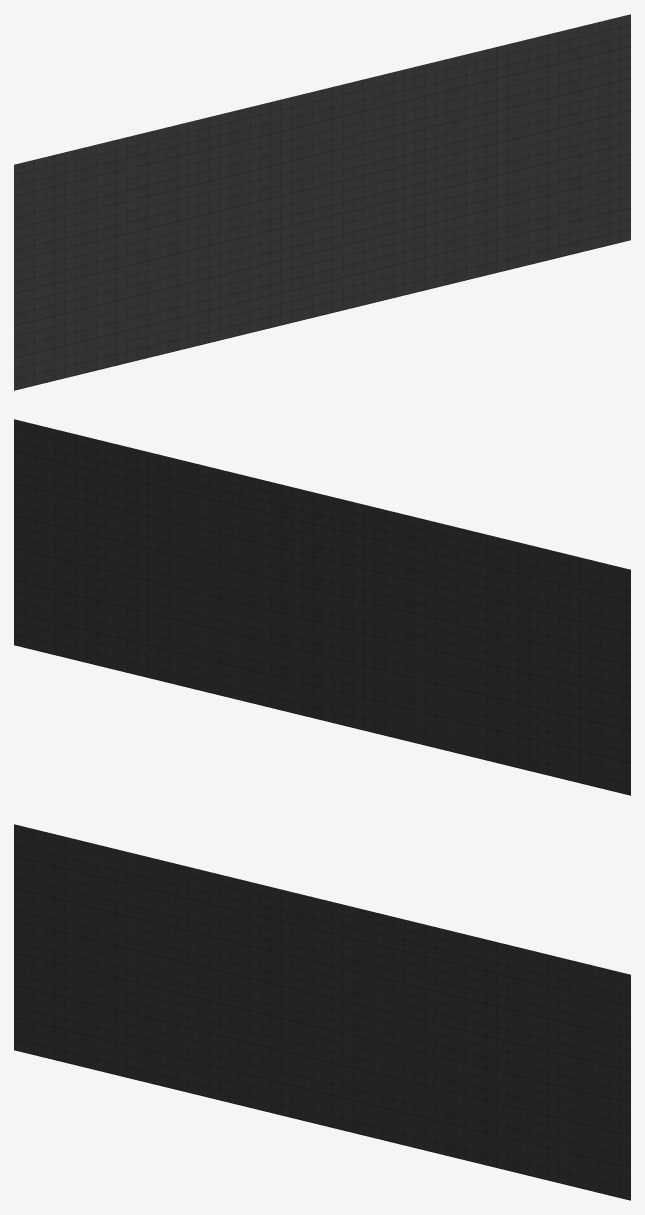
3 renders of one model, top to bottom at view 1: azimuth 30°, elevation 25°; view 2: azimuth 150°, elevation 25°; view 3: azimuth 330°, elevation 25°, orthographic.
Visible parts, largest first — view 1: LQ; view 2: LQ; view 3: LQ.
Part boxes in pixels (x1,y1,x2,y2): LQ: [14, 14, 630, 390]; LQ: [14, 419, 630, 795]; LQ: [14, 824, 630, 1200].
Size of the model in its own units: 9.73 by 3.41 by 7.56e-16.
Materials: 1 (1 with a texture image).
